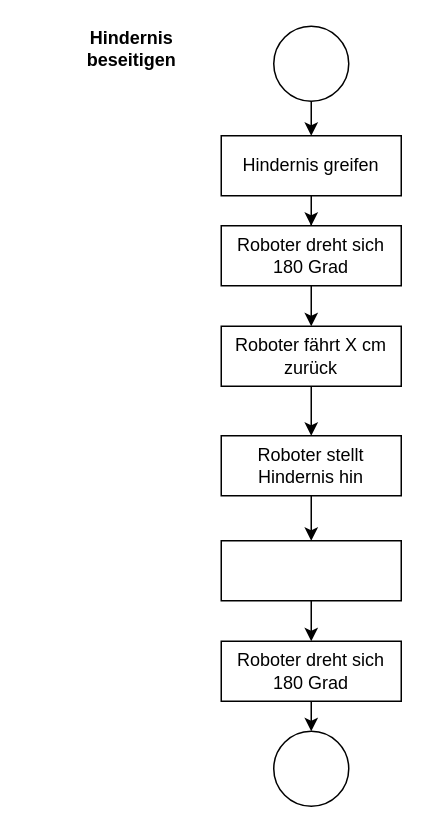
The diagram is 428 pixels wide and 833 high, and some of its shapes have lost their labels. The box of each missing label's shape, as (x1, y1, x2, y2) in pixels:
Ende: (272, 730, 349, 806)
Roboter fährt X cm zurueck: (220, 539, 401, 601)
Start: (272, 25, 349, 101)
